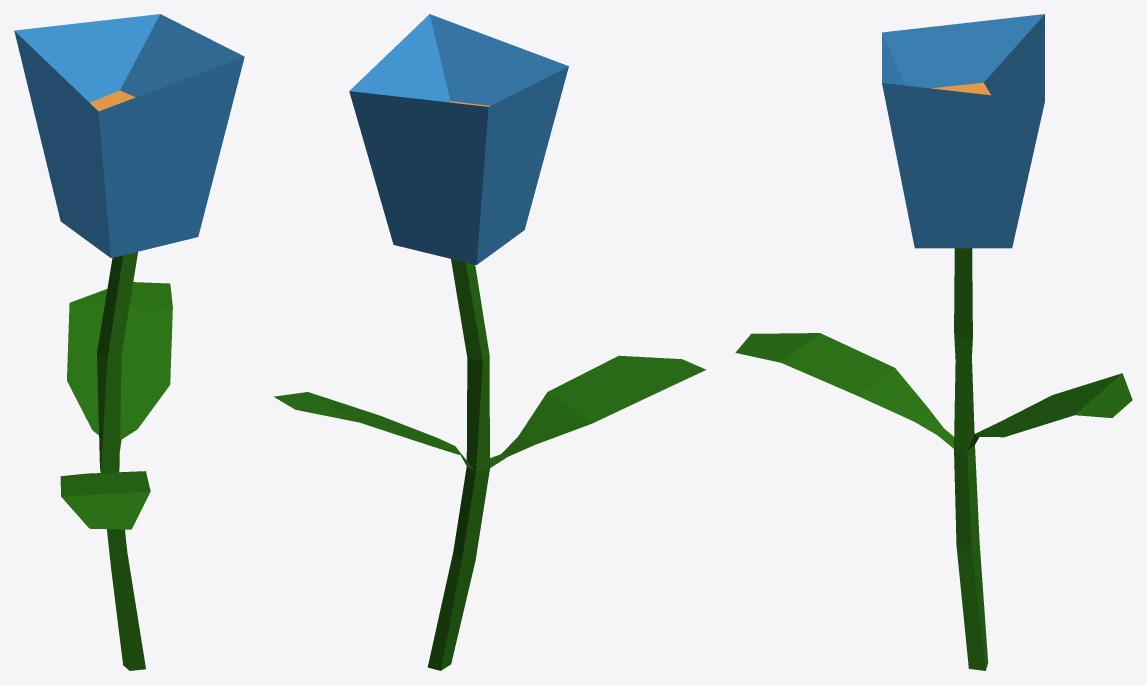
File: flor_2.fbx
The picture shows the model from 3 angles, left to right: view 1: azimuth 30°, elevation 25°; view 2: azimuth 150°, elevation 25°; view 3: azimuth 270°, elevation 25°; orthographic projection. The views are drawn at different scales.
Parts seen in each view (by area): view 1: flower2; view 2: flower2; view 3: flower2.
Part boxes in pixels (x1,y1,x2,y2): flower2: (14, 14, 244, 670); flower2: (274, 14, 706, 670); flower2: (735, 14, 1132, 670).
Bounding box in the file's own units: 26.51 × 60 × 35.3.
